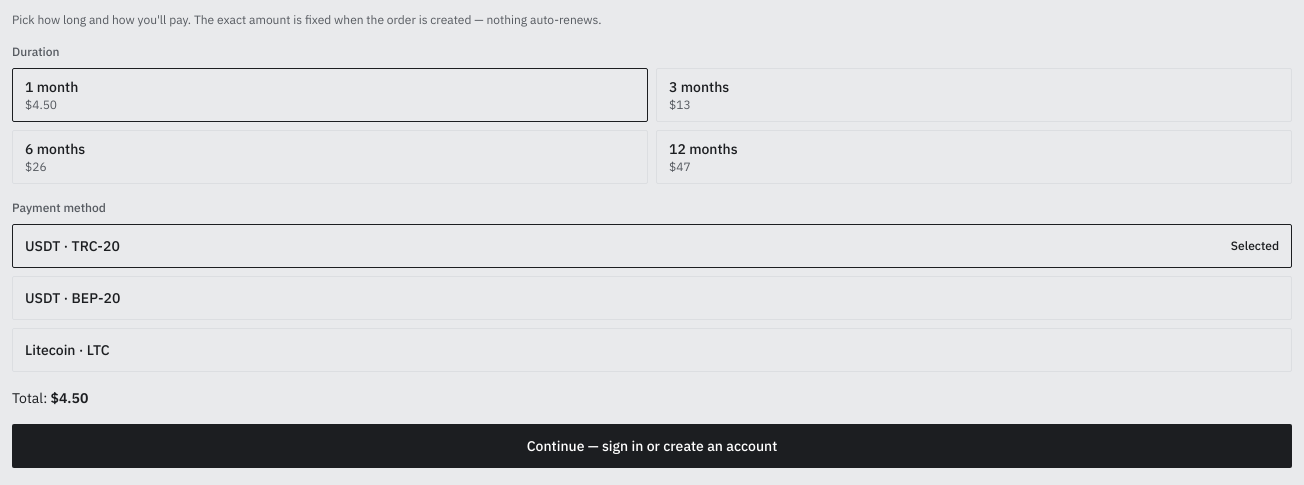
it: account step › asks for an account before creating the order when signed out
Click the button "Continue — sign in or create an account": x=652, y=446 left=12, top=424, right=1292, bottom=468
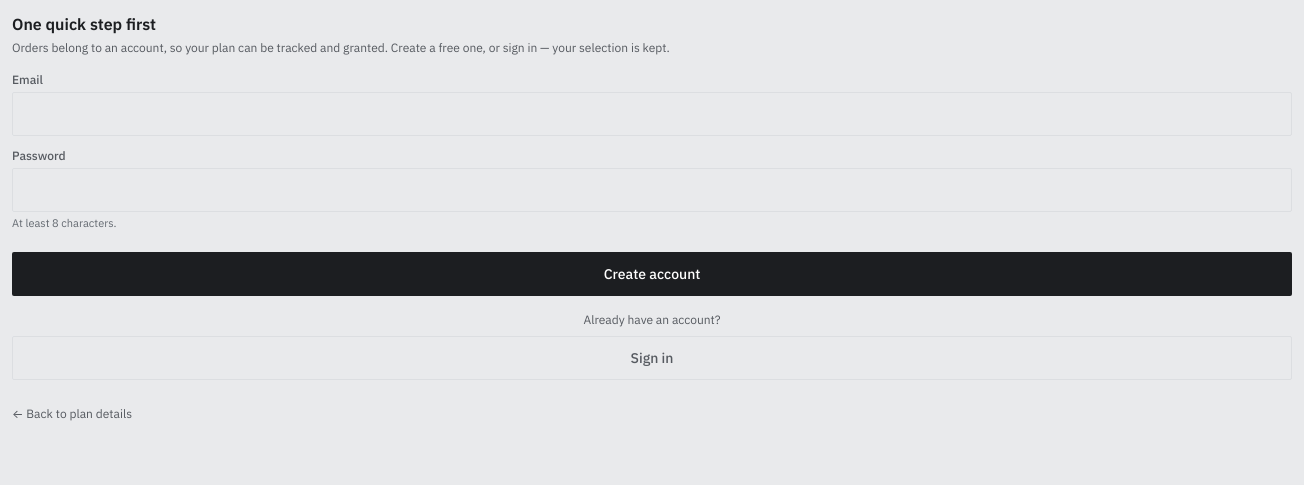
Expected: the element with test id "upgrade-step-auth" is shown
Expected: the form with test id "auth-form" is shown
